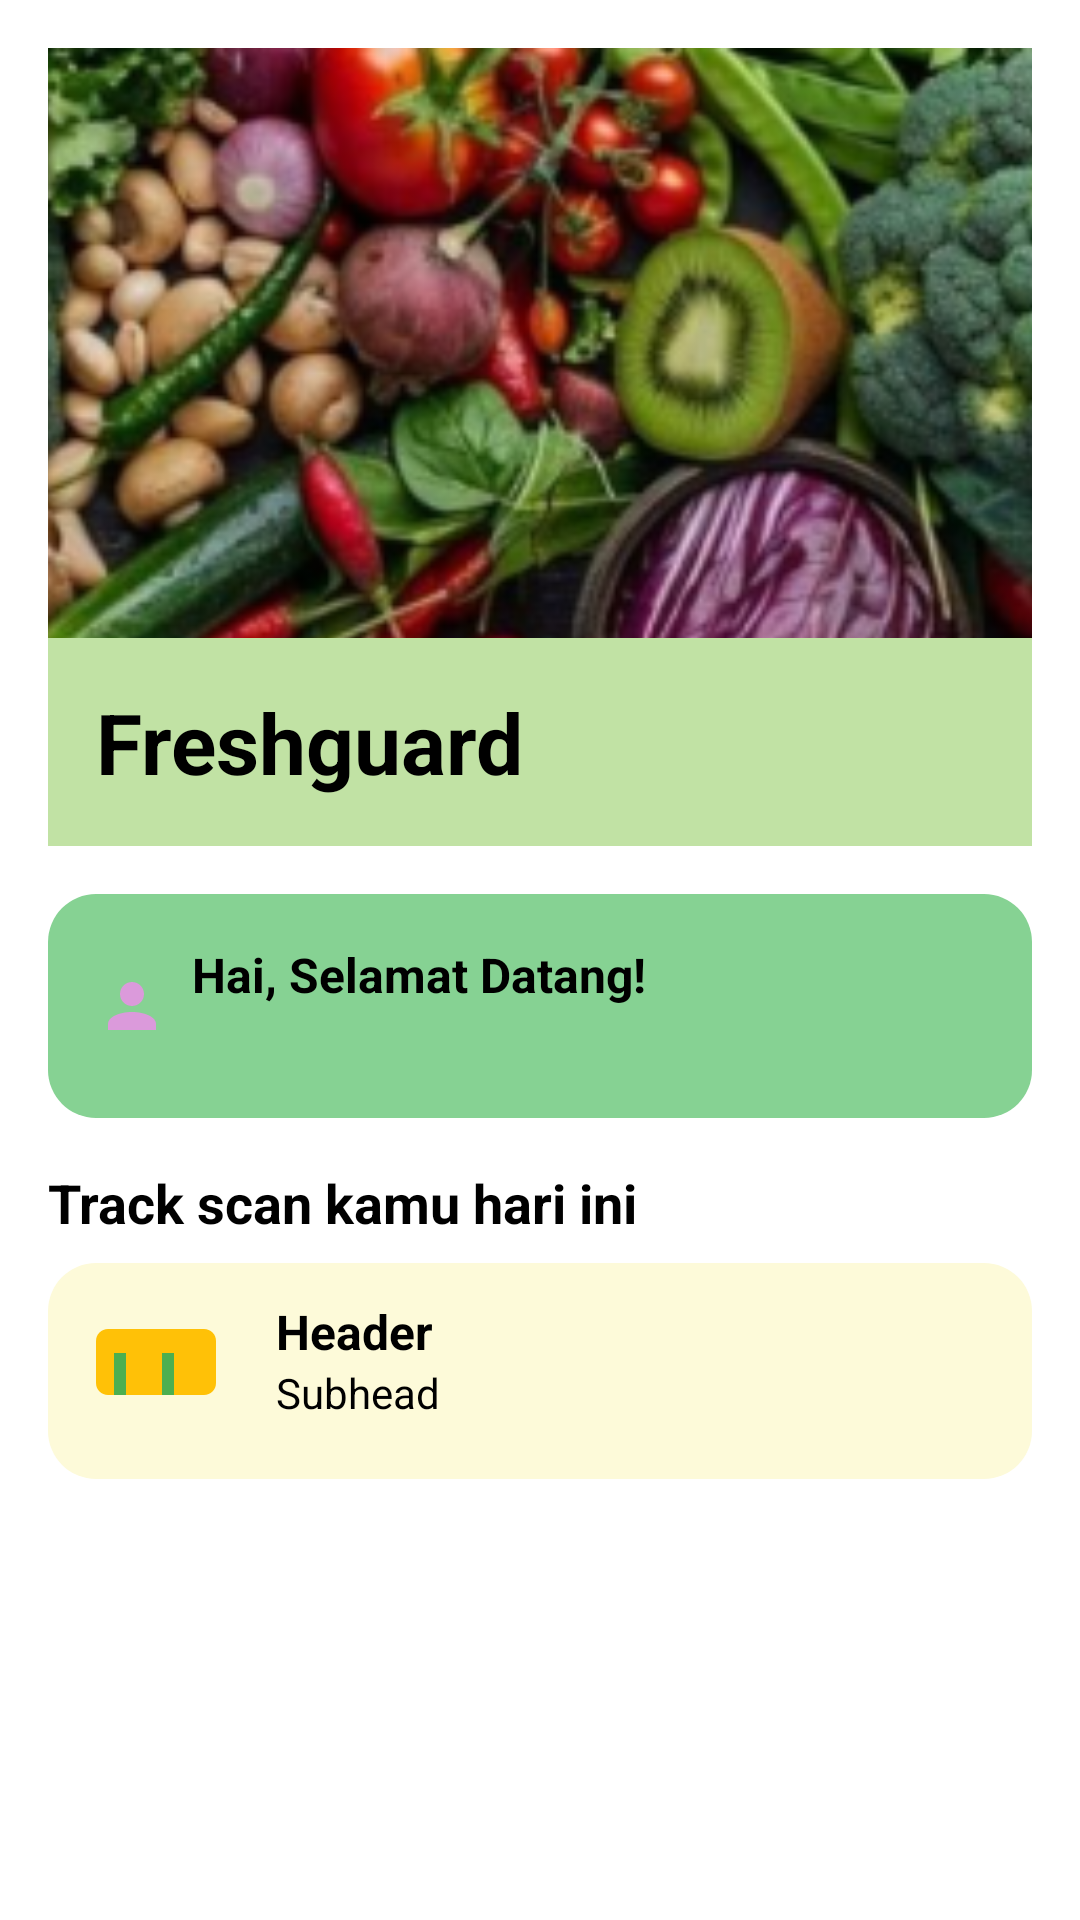

Icon bounding boxes for this 1080px×1920px phone screenshot, format (x1, y1, x2, y2):
Ikon User: (108, 982, 156, 1030)
